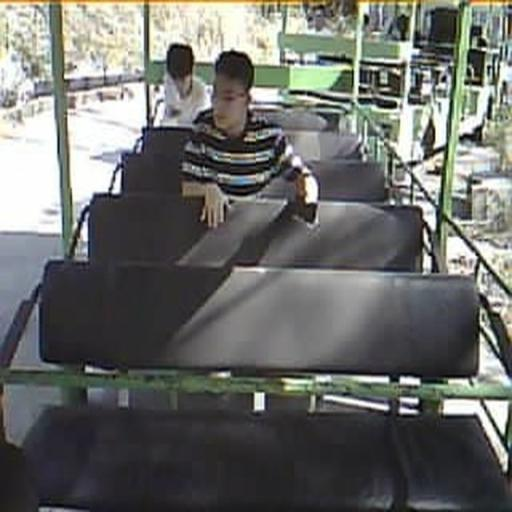persona: (179, 49, 320, 230), (160, 42, 212, 127)
